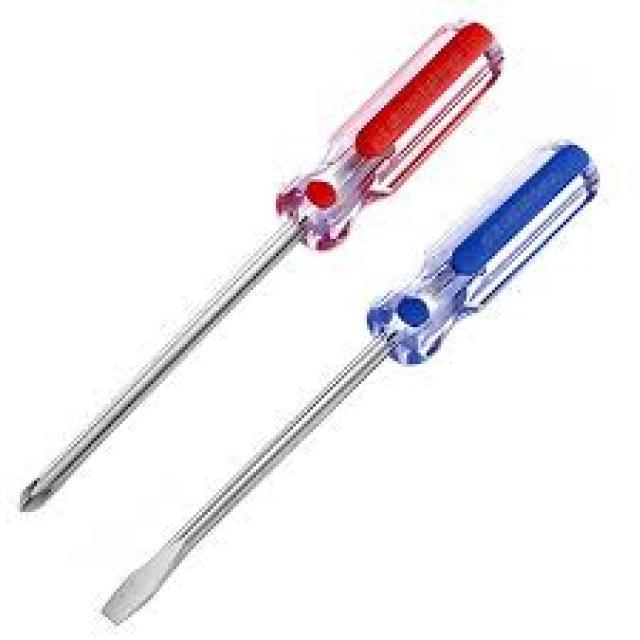screwdriver: (95, 135, 602, 630), (10, 16, 511, 516)
